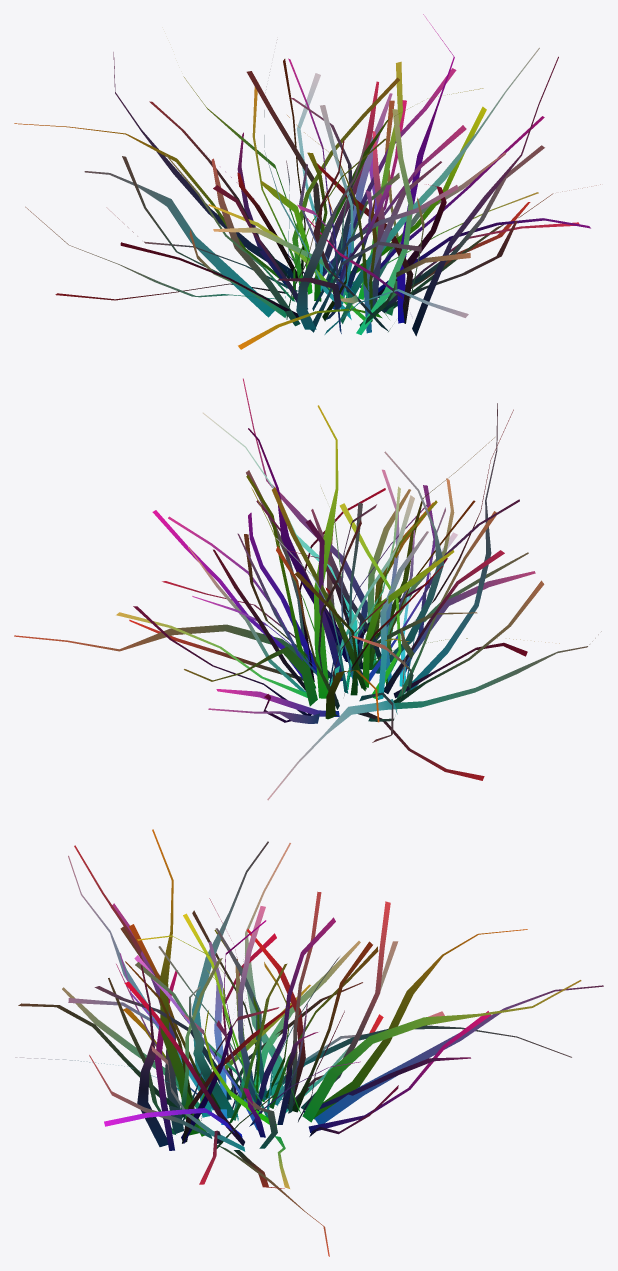
Rendered from Wild_Grass_vlkhcbxia_Mid_vlkhcbxia_VarE_LOD0.fbx.
3 views of the same model, one above another, from view 1: azimuth 30°, elevation 25°; view 2: azimuth 150°, elevation 25°; view 3: azimuth 270°, elevation 25° (orthographic). The views are drawn at different scales.
Visible parts, largest first — view 1: _v3is_VarE_LOD1; view 2: _v3is_VarE_LOD1; view 3: _v3is_VarE_LOD1.
Part boxes in pixels (x1,y1,x2,y2): _v3is_VarE_LOD1: (14,14,600,349); _v3is_VarE_LOD1: (14,378,601,800); _v3is_VarE_LOD1: (15,829,603,1256).
Bounding box in the file's own units: 40.58 × 18.14 × 36.05.
